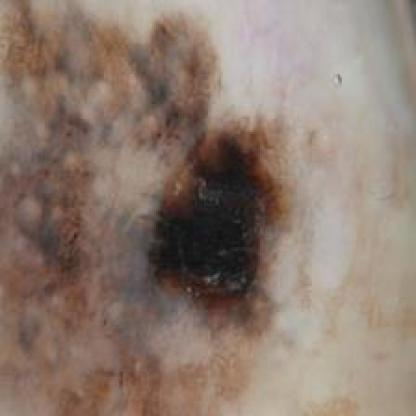malignant: (147, 60, 319, 318)
